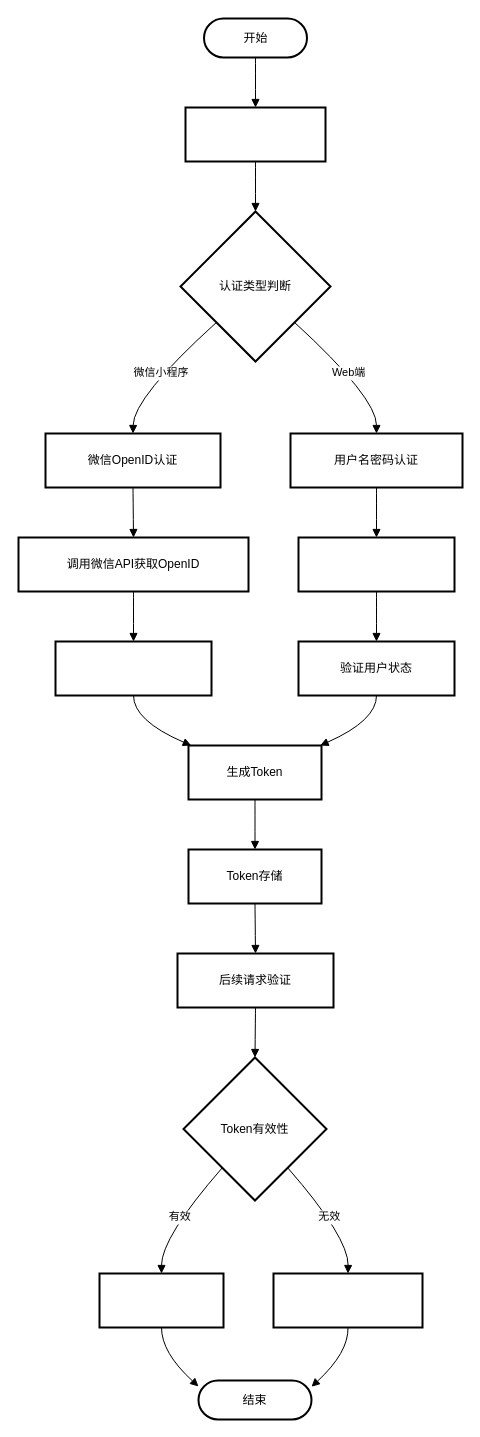
This 480x1437 diagram has some shape labels left out. Each missing label, with the centre of its shape:
"业务处理" goes at (x=161, y=1300).
"客户端请求" goes at (x=255, y=134).
"密码加密比对" goes at (x=376, y=564).
"查询绑定关系" goes at (x=133, y=668).
"返回401错误" goes at (x=347, y=1300).
